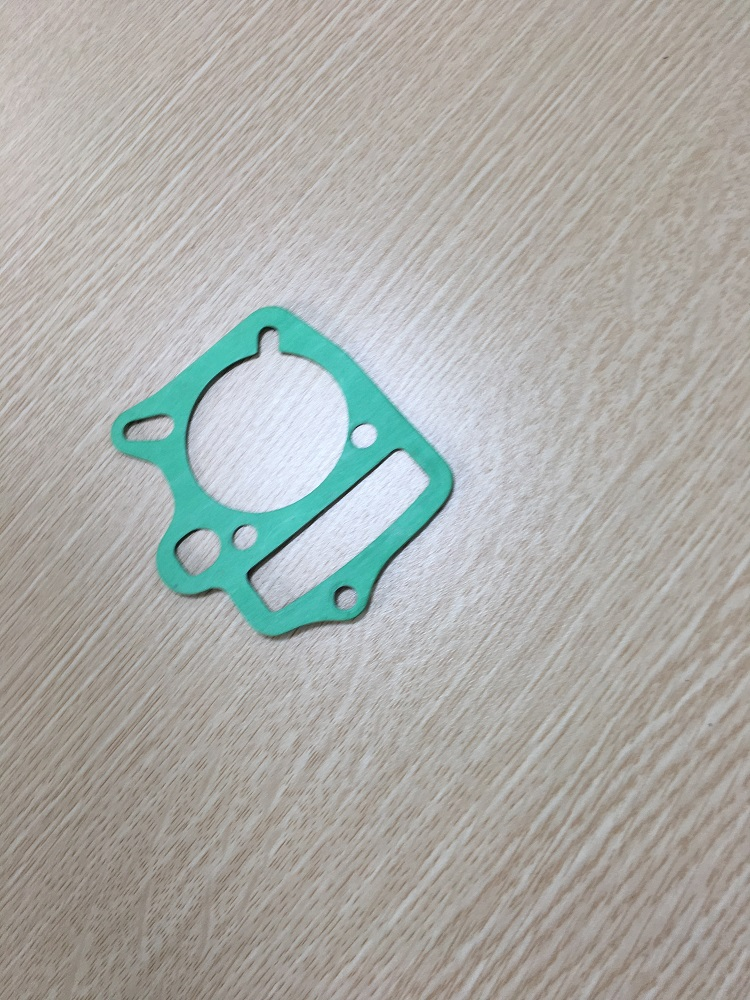circle 1: (171, 298, 351, 527)
circle 2: (153, 518, 229, 589)
circle 3: (110, 401, 177, 459)
circle 4: (341, 409, 391, 456)
circle 5: (321, 572, 374, 624)
circle 6: (238, 437, 454, 619)
object: (83, 266, 504, 693)
